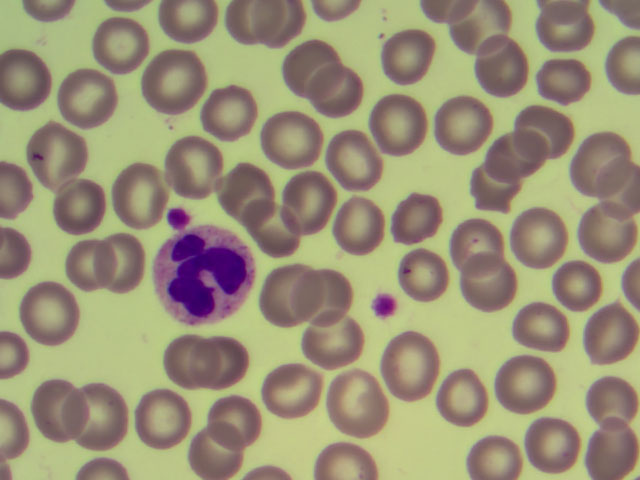Platelets: (372, 294, 397, 319), (166, 208, 192, 232)
RBC: (379, 331, 438, 404), (20, 279, 80, 344), (283, 34, 343, 99), (89, 230, 149, 295), (31, 380, 91, 445), (328, 365, 388, 430), (259, 355, 319, 420), (263, 107, 323, 172), (145, 46, 205, 111), (162, 134, 222, 199), (110, 158, 170, 223), (67, 384, 127, 449), (28, 124, 88, 189), (494, 351, 554, 416), (369, 91, 429, 156), (325, 127, 385, 192), (572, 129, 632, 194), (578, 199, 638, 264), (510, 205, 570, 270), (433, 90, 493, 155), (580, 297, 639, 362), (247, 232, 303, 300), (283, 169, 337, 238), (290, 267, 355, 324), (472, 31, 528, 96), (458, 250, 516, 312), (1, 47, 54, 113), (220, 158, 275, 221), (524, 415, 580, 476), (132, 390, 189, 449), (329, 193, 384, 254), (513, 102, 571, 159), (59, 67, 115, 126), (586, 419, 639, 480), (189, 422, 244, 480), (452, 1, 510, 56), (52, 175, 104, 236), (158, 331, 217, 384), (92, 18, 147, 73), (378, 29, 435, 82), (488, 127, 546, 179), (199, 85, 252, 141), (196, 332, 249, 388), (206, 398, 261, 451), (315, 436, 381, 480), (311, 63, 364, 117), (393, 187, 443, 244), (250, 202, 299, 260), (63, 237, 115, 291), (598, 156, 639, 223), (439, 367, 485, 426), (587, 375, 639, 427), (468, 165, 521, 215), (534, 56, 592, 101), (217, 1, 279, 43), (245, 1, 305, 44), (464, 437, 524, 480), (535, 1, 585, 52), (156, 1, 218, 42), (513, 305, 568, 349), (400, 247, 447, 296), (65, 449, 135, 480), (604, 37, 640, 94), (1, 324, 33, 380), (1, 161, 33, 217), (1, 398, 30, 459), (1, 229, 33, 281), (418, 1, 475, 29), (616, 253, 640, 313), (18, 1, 73, 27), (539, 1, 591, 25), (239, 461, 294, 480), (94, 1, 151, 17), (605, 1, 640, 27), (310, 1, 361, 15), (1, 454, 19, 480)
WBC: (156, 225, 257, 327)
